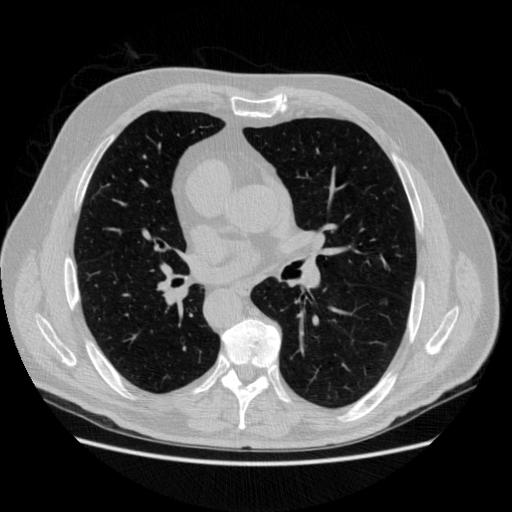nodule: (380, 296, 392, 308)
